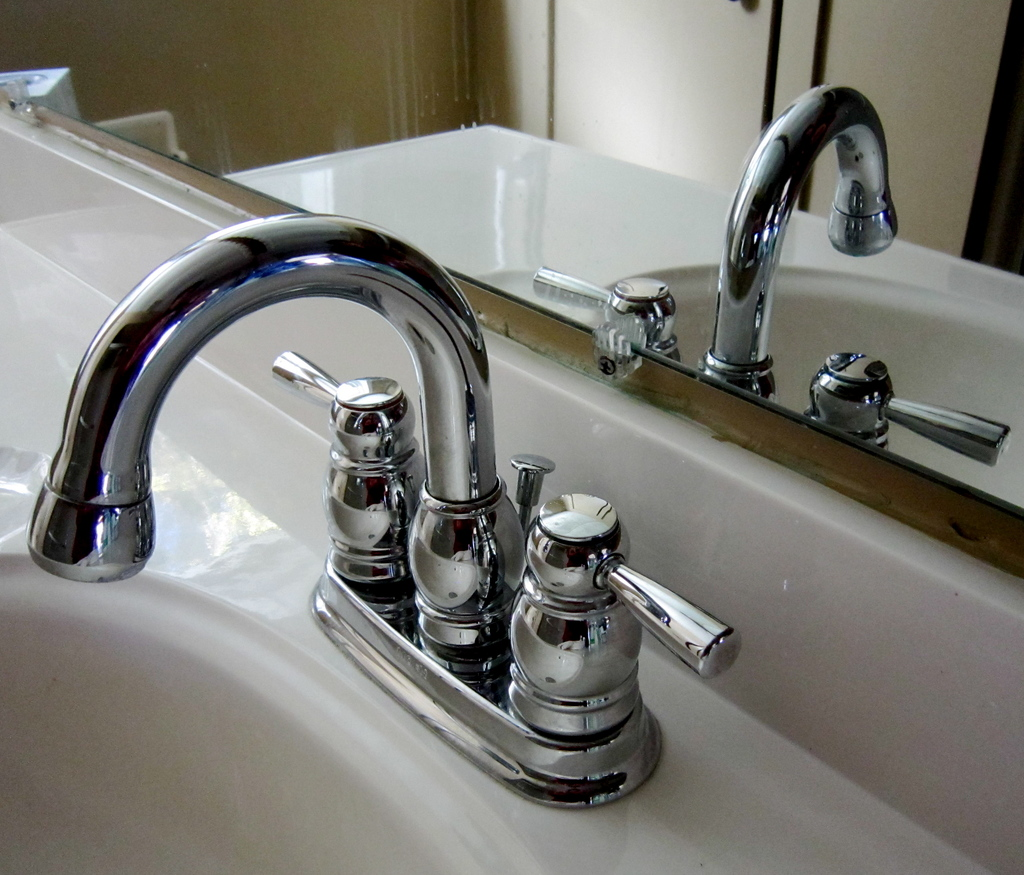tap: (21, 211, 549, 650)
